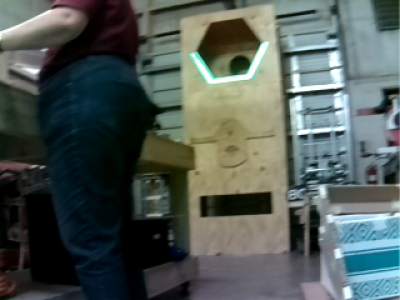target: (189, 41, 270, 83)
